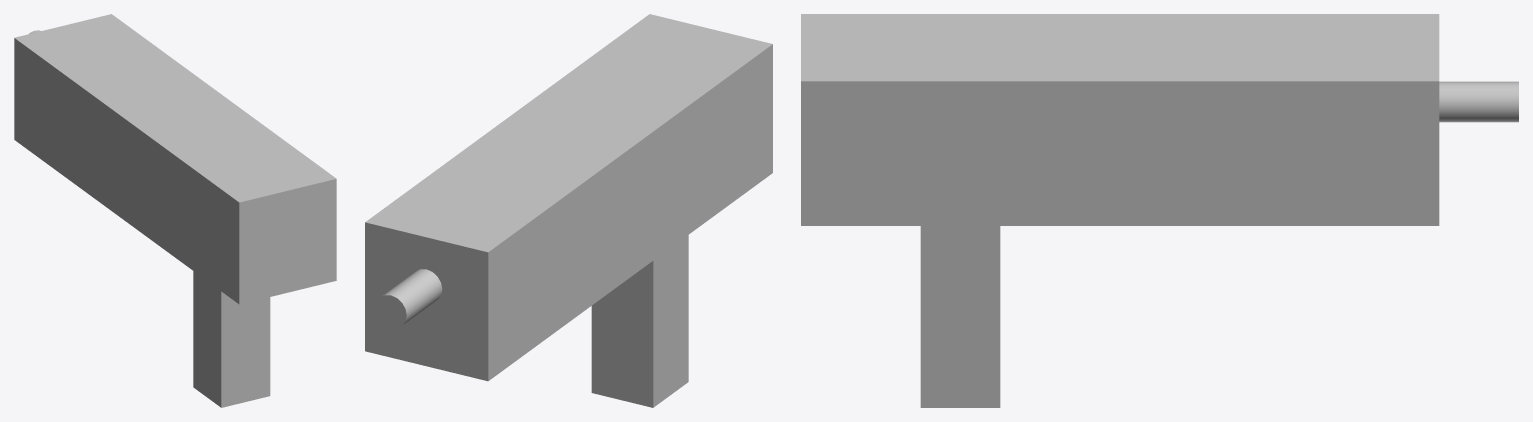
Rendered from 05_magnum.glb.
The picture shows the model from 3 angles, left to right: view 1: azimuth 30°, elevation 25°; view 2: azimuth 150°, elevation 25°; view 3: azimuth 270°, elevation 25°; orthographic projection. The views are drawn at different scales.
Visible parts, largest first — view 1: items/05_magnum; view 2: items/05_magnum; view 3: items/05_magnum.
Part boxes in pixels (x1,y1,x2,y2): items/05_magnum: (14,14,336,407); items/05_magnum: (365,14,772,407); items/05_magnum: (801,14,1518,407).
Size of the model in its own units: 0.125 by 0.2969 by 0.5625.
Materials: 1 (1 with a texture image).
